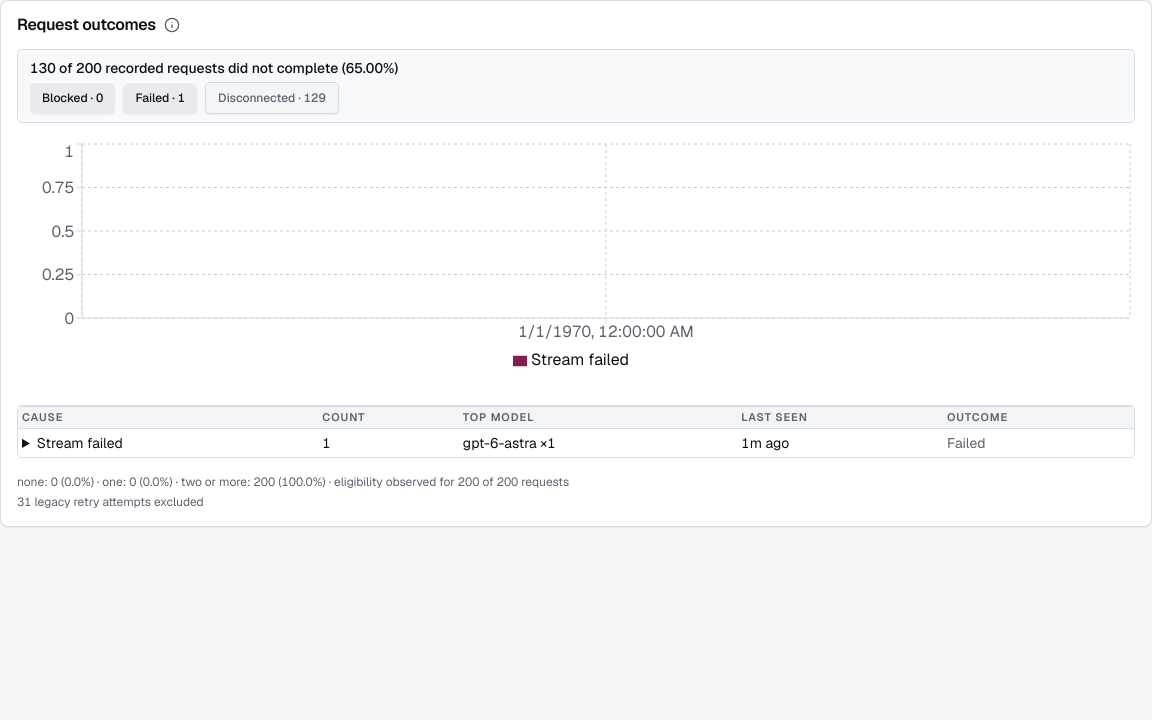
Test: request outcome interactions › keeps disconnect counts visible while initially showing the real failure
Check: the table shows "Stream failed", box [37,434,123,452]
Check: the text "Client disconnected" is not shown
Click the button "Disconnected · 129" at (272, 98), box [205,82,339,114]
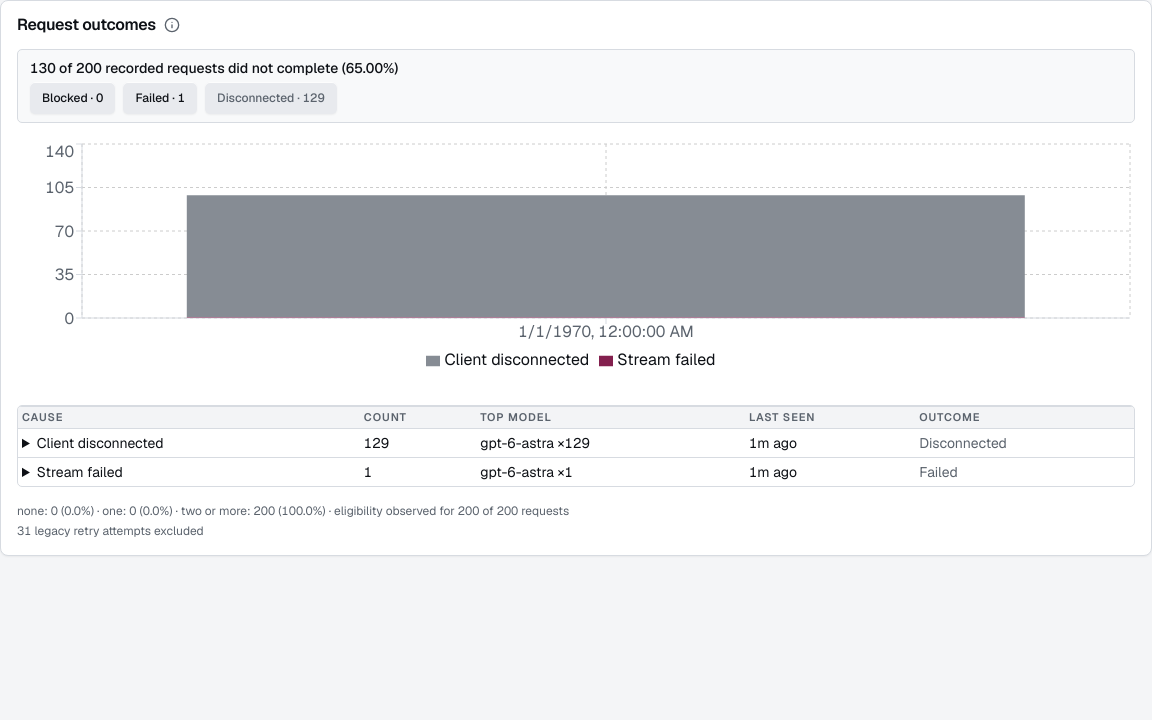
Check: the text "130 of 200 recorded requests did not complete" is shown, box [30,59,398,77]
Check: the table shows "Client disconnected", box [37,434,164,452]
